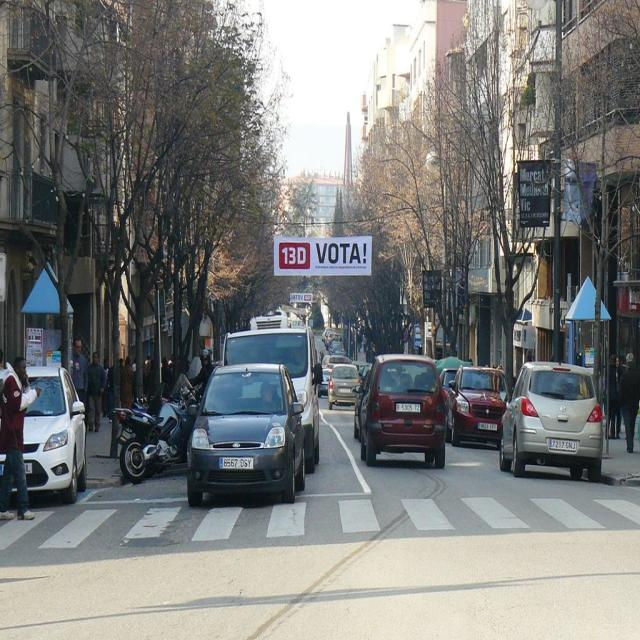car: (176, 352, 312, 507), (498, 361, 604, 473), (350, 350, 446, 462)
